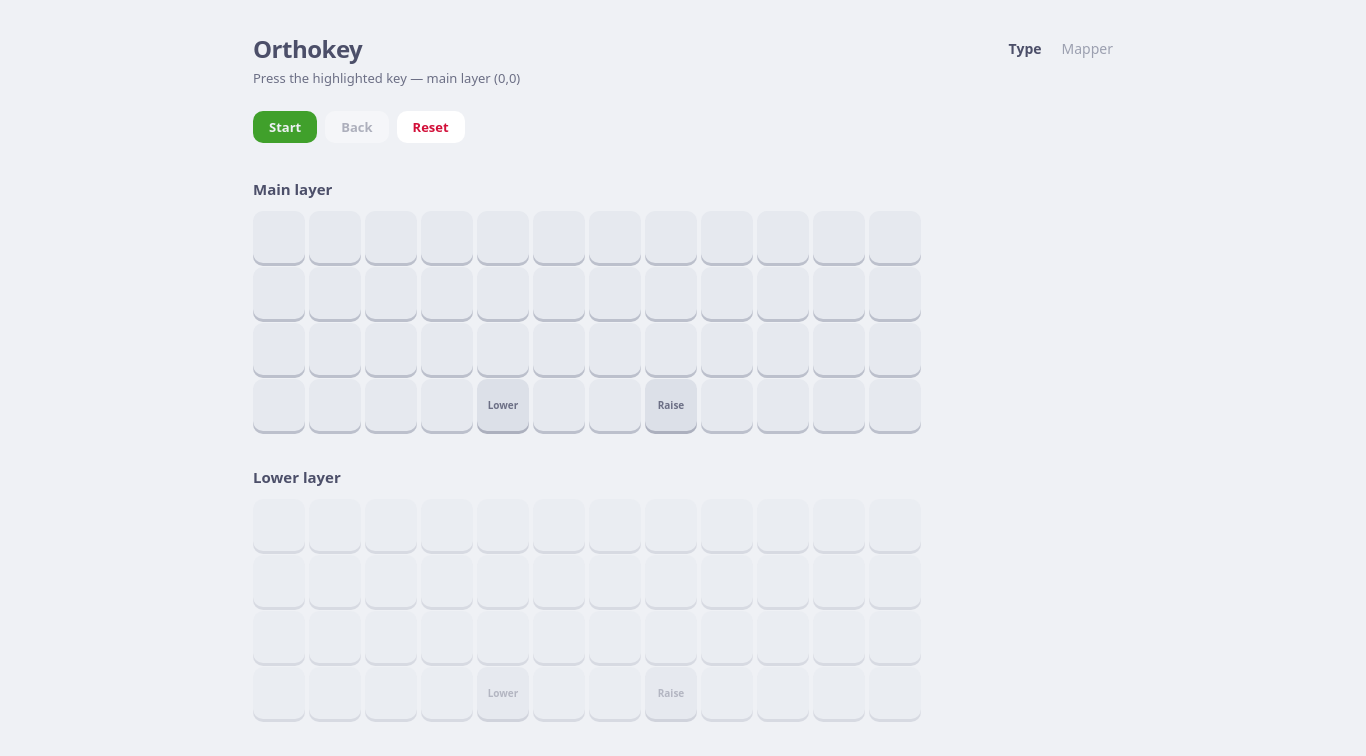
Test: custom label modal › cancels on Escape key without recording
Click the button "Start": (285, 127) [253, 111, 317, 143]
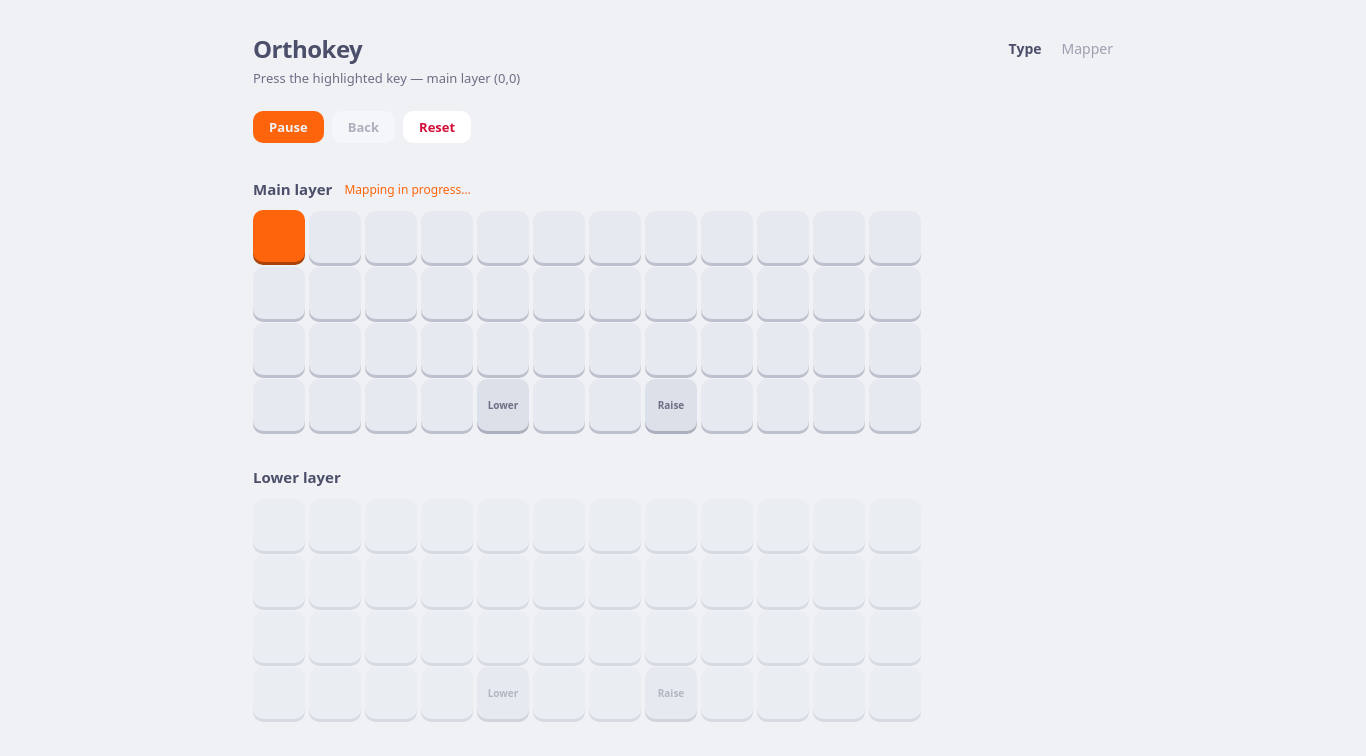
Click the element named "main layer key at 0,0": (279, 236) [253, 210, 305, 262]
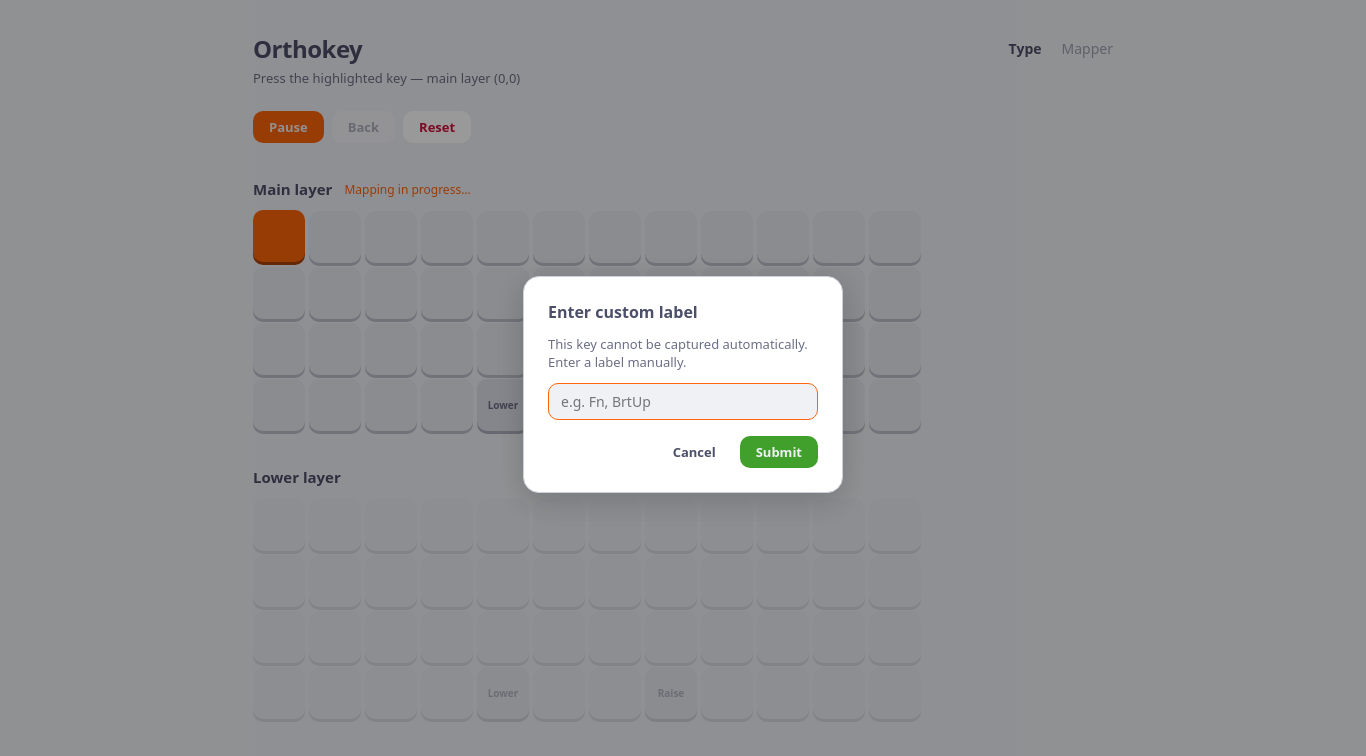
In the field: (683, 401) [548, 382, 818, 420], type "Fn"
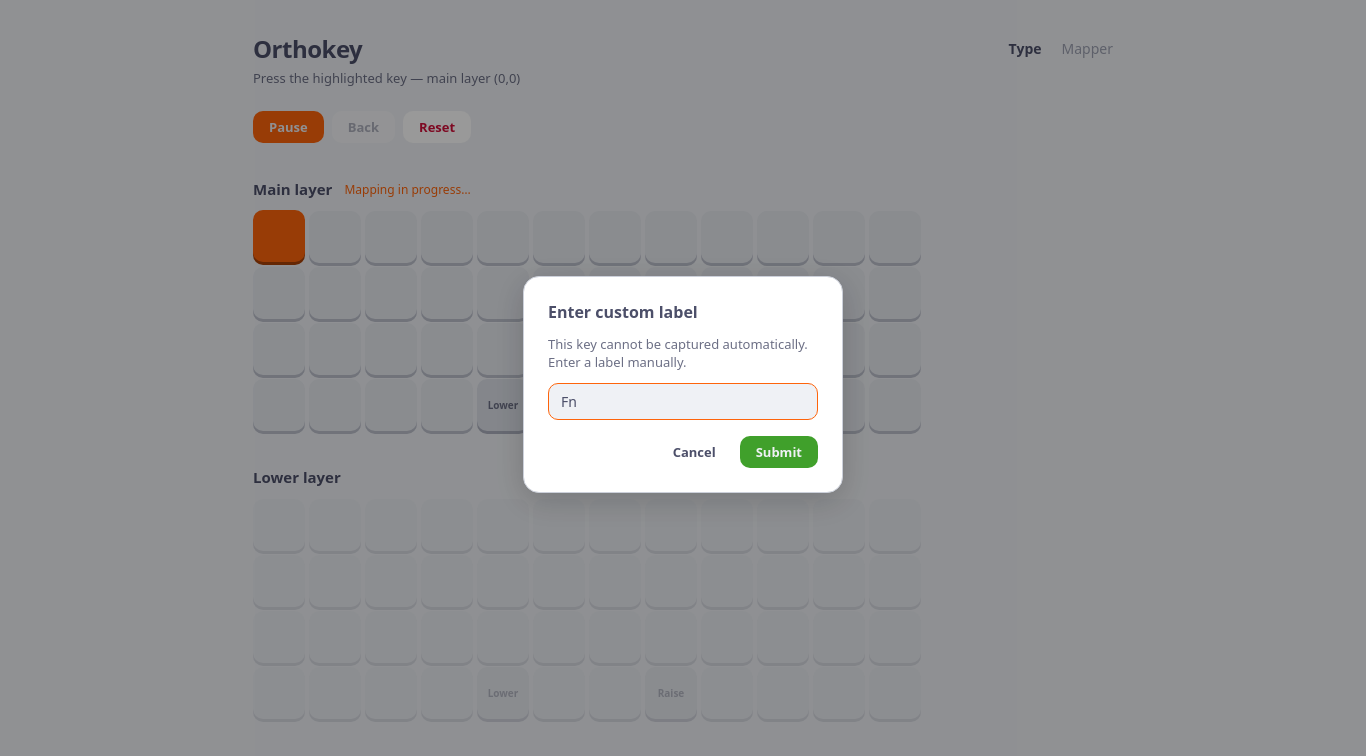
Press Escape in the field, box [548, 382, 818, 420]
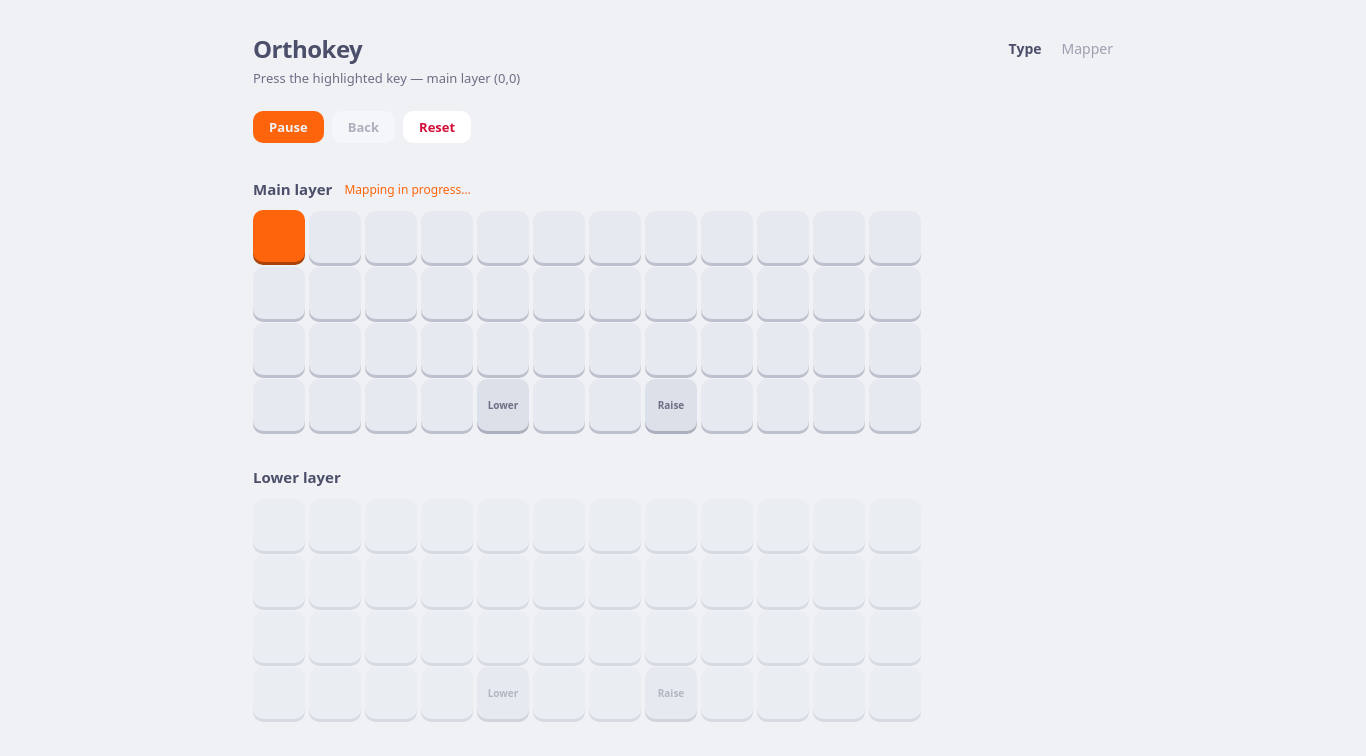
Now the heading "Enter custom label" is gone
